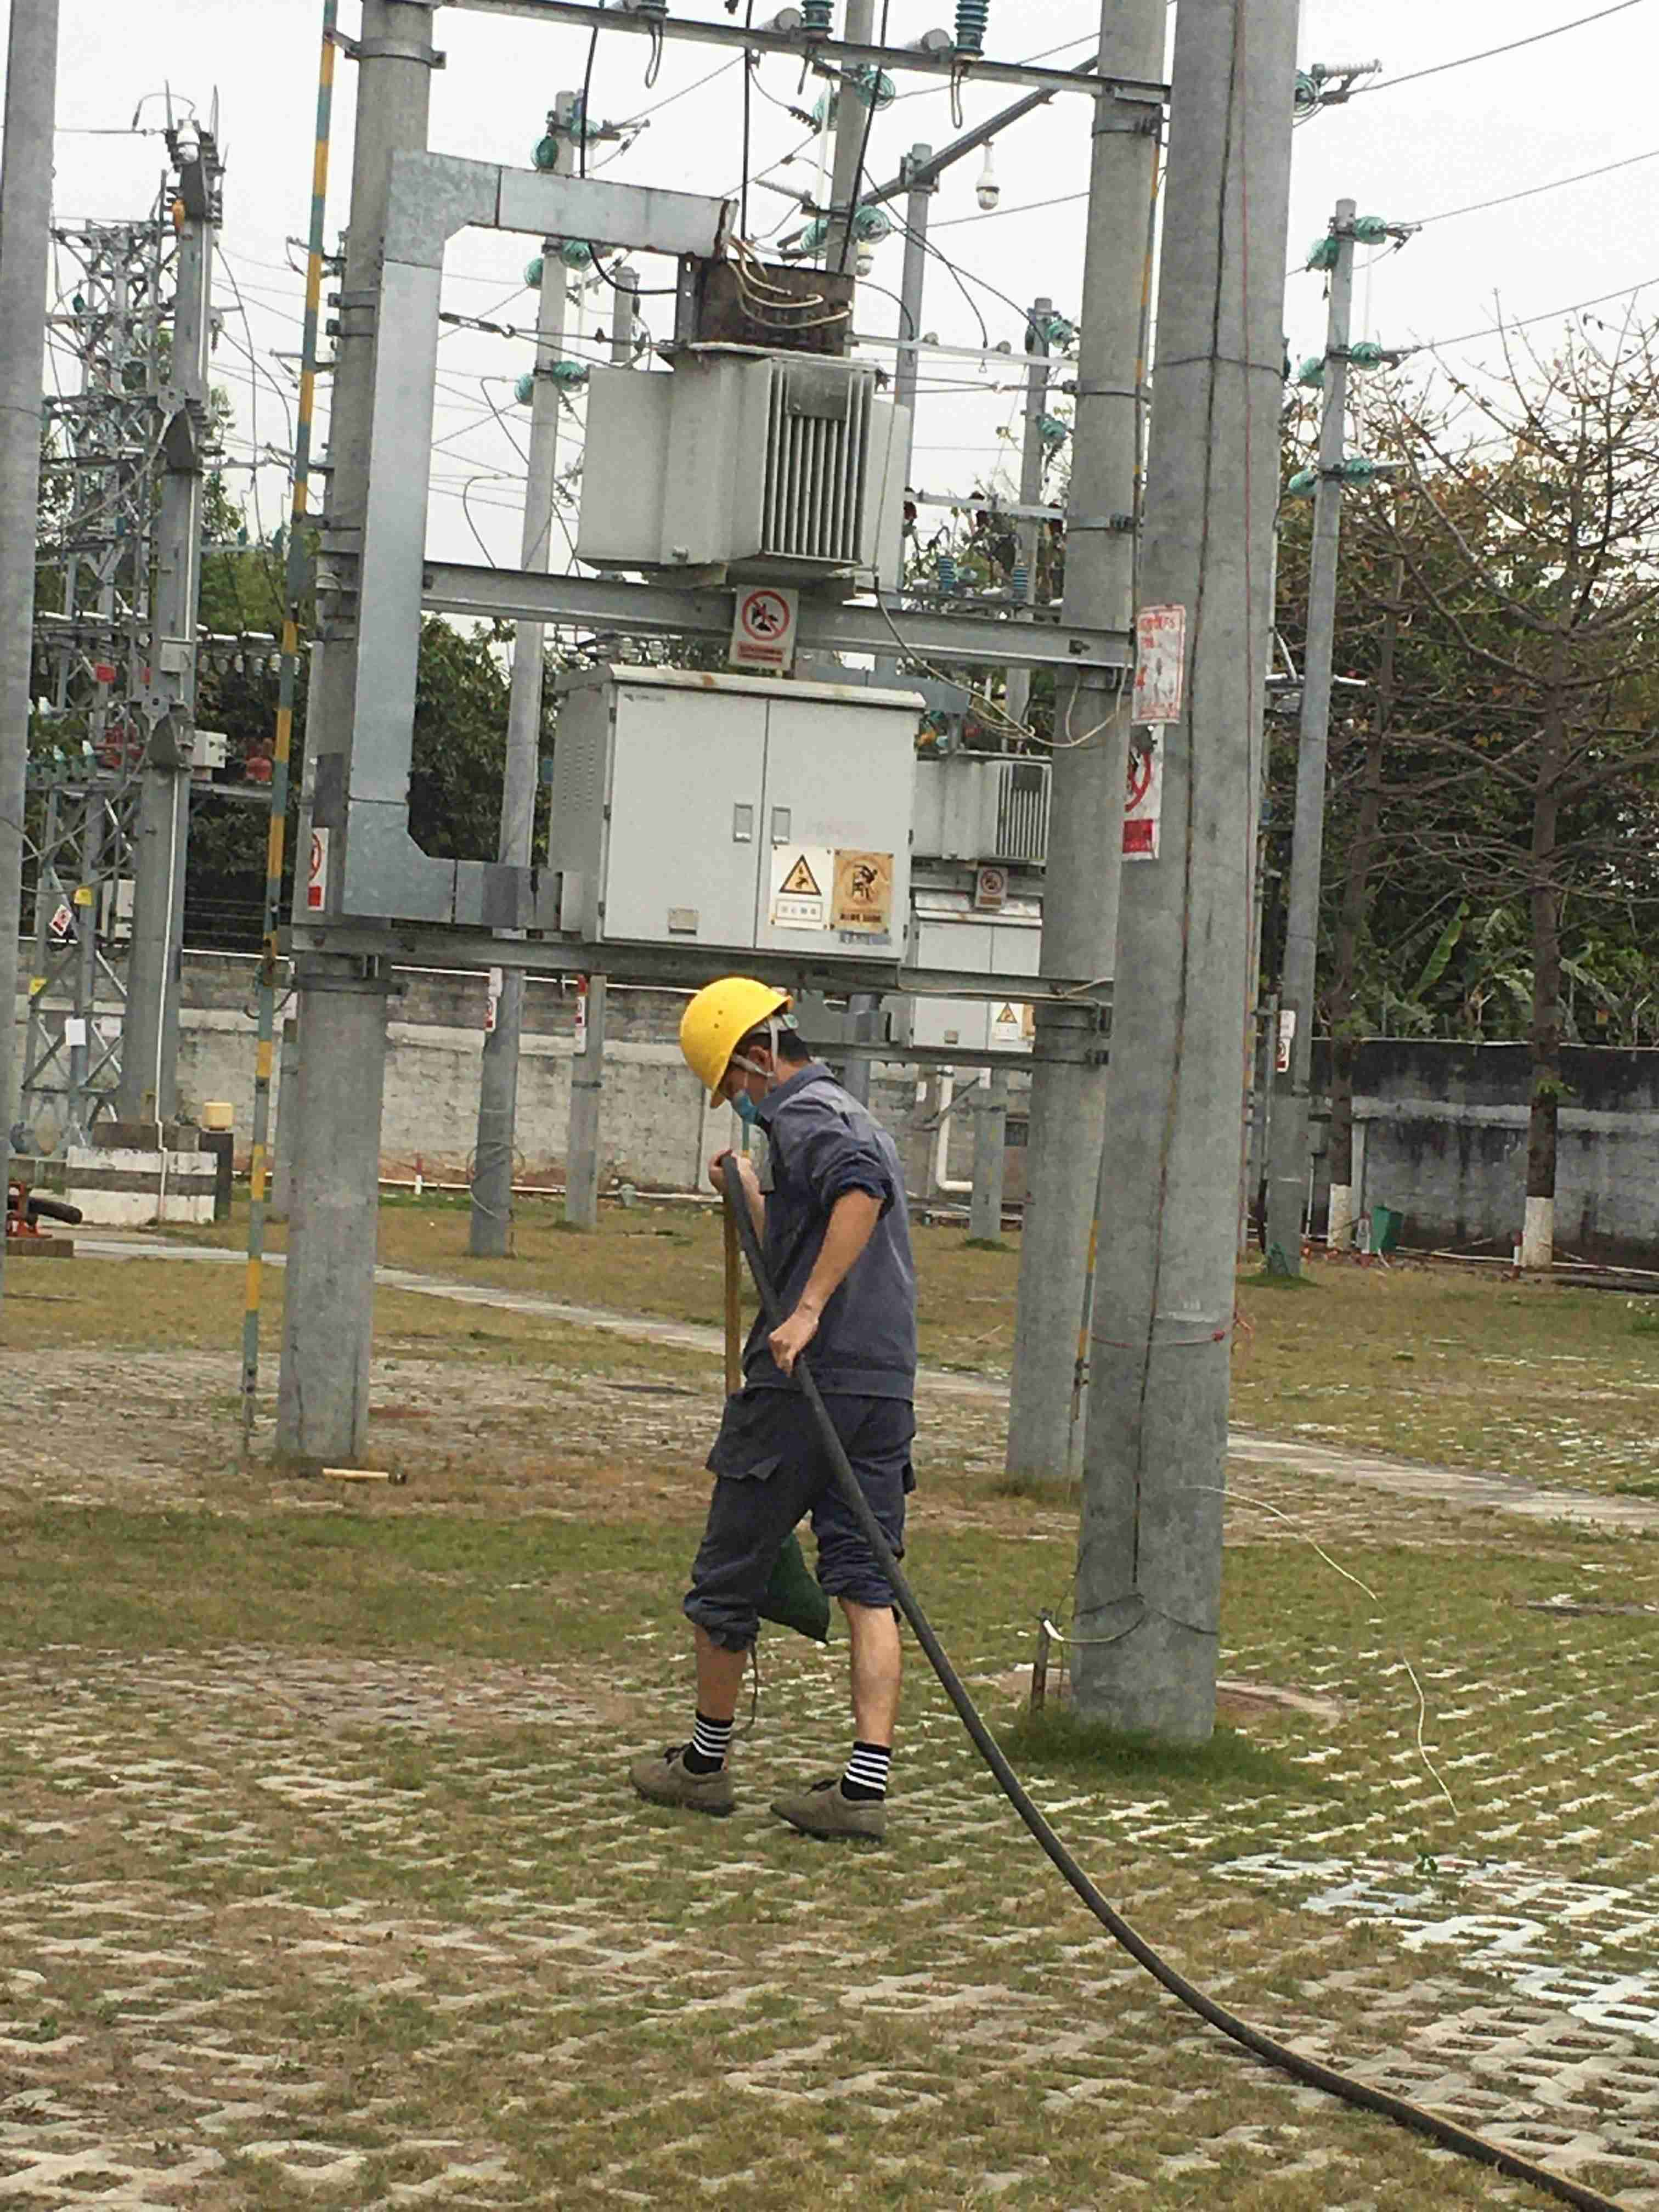downsuit: (683, 1390, 918, 1655)
upsuit: (744, 1061, 922, 1404)
wrongbottom: (816, 1541, 906, 1745), (680, 1587, 765, 1723)
wrongtop: (798, 1155, 896, 1318)
